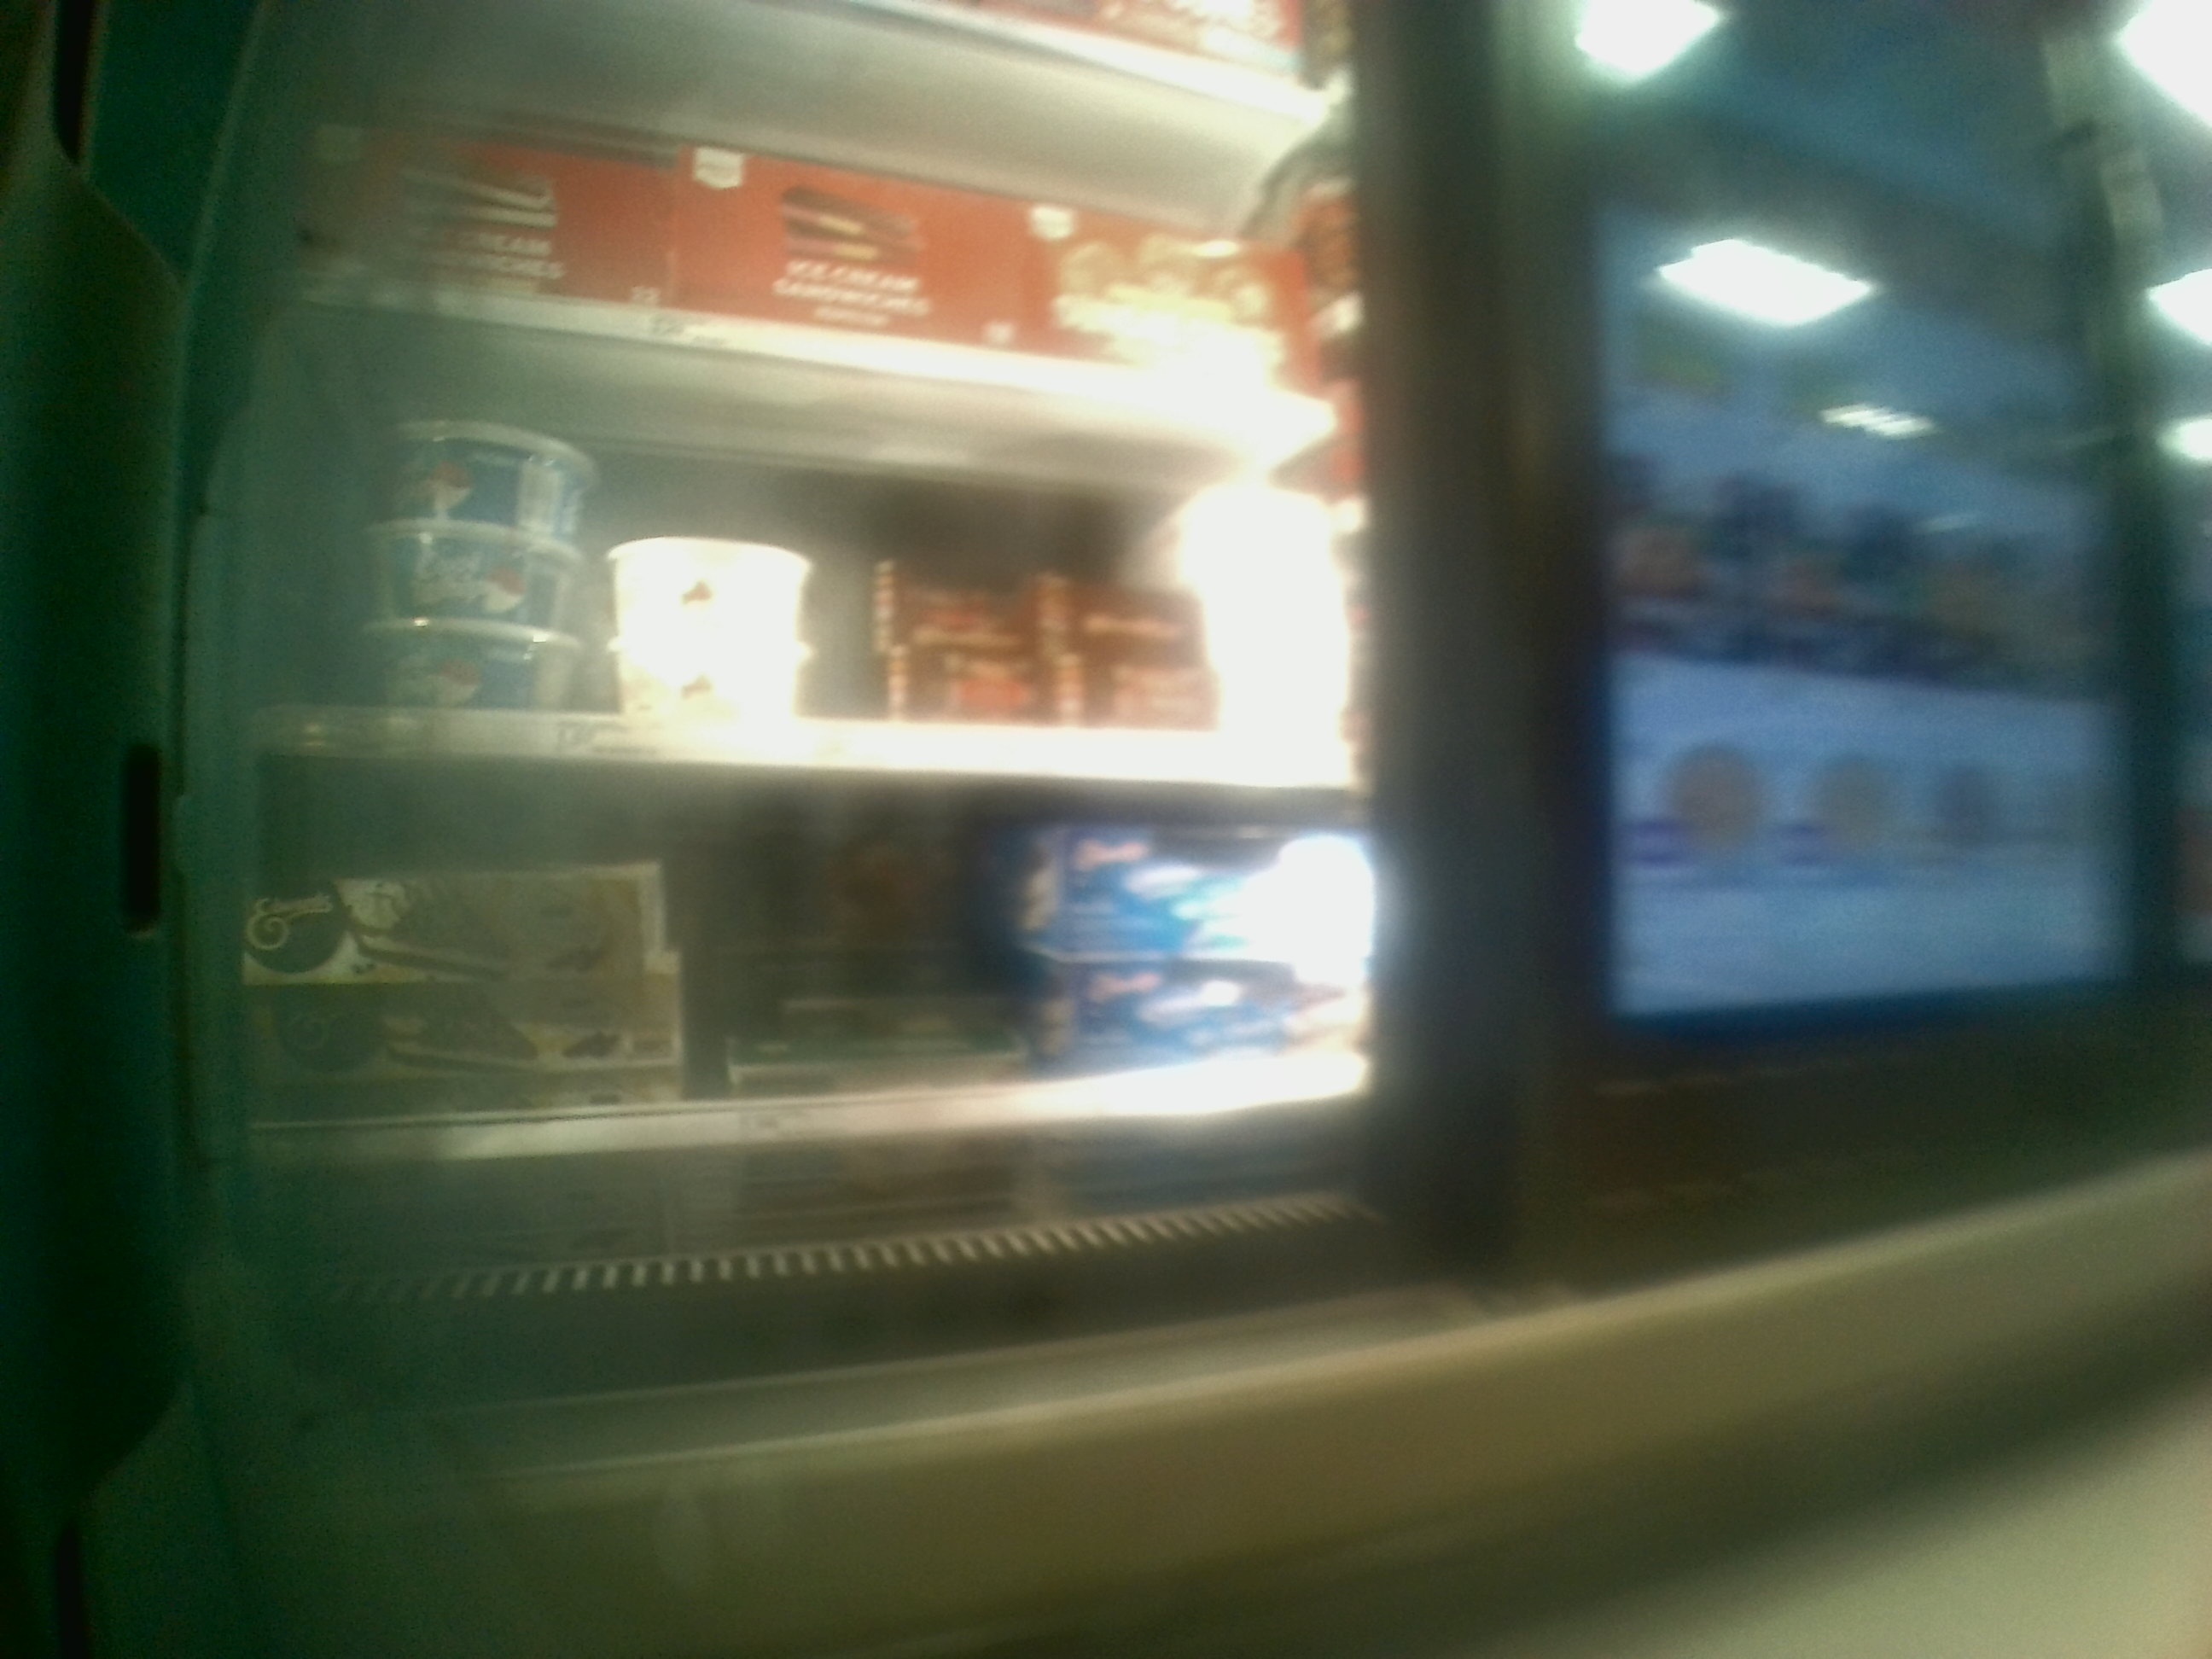frozen-food-shelf: (204, 763, 1388, 1173)
